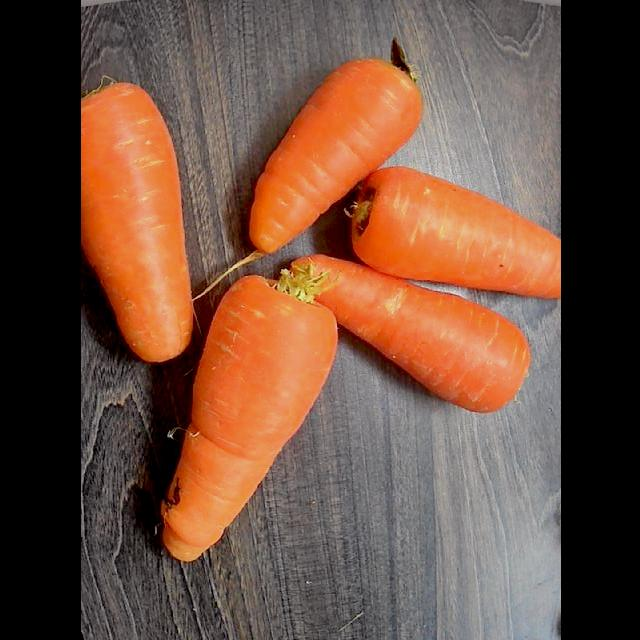zanahoria: (161, 270, 337, 560), (235, 40, 422, 265), (291, 255, 530, 412), (81, 82, 192, 362), (348, 166, 560, 297)
